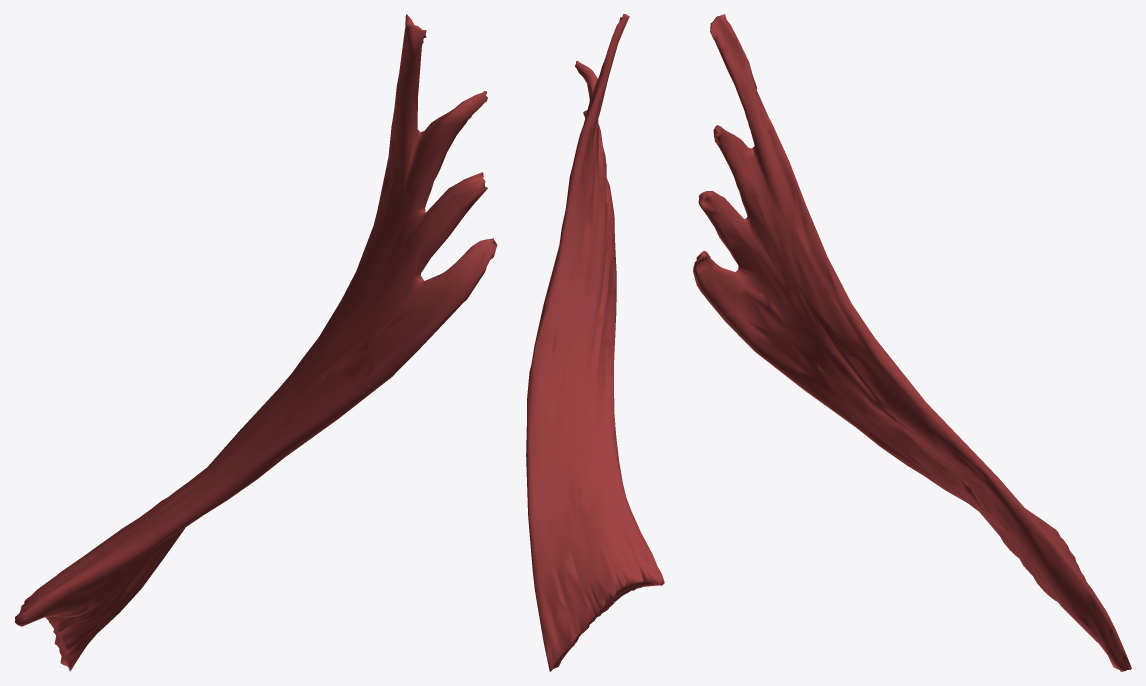
File: levator-scapulae-r.glb
The picture shows the model from 3 angles, left to right: view 1: azimuth 30°, elevation 25°; view 2: azimuth 150°, elevation 25°; view 3: azimuth 270°, elevation 25°; orthographic projection. The views are drawn at different scales.
Parts seen in each view (by area): view 1: Levator scapulae.r; view 2: Levator scapulae.r; view 3: Levator scapulae.r.
Part boxes in pixels (bbox=[...]): Levator scapulae.r: bbox=[14, 14, 497, 671]; Levator scapulae.r: bbox=[526, 14, 664, 671]; Levator scapulae.r: bbox=[693, 14, 1131, 671].
Bounding box in the file's own units: 0.0614 × 0.1529 × 0.0859.
